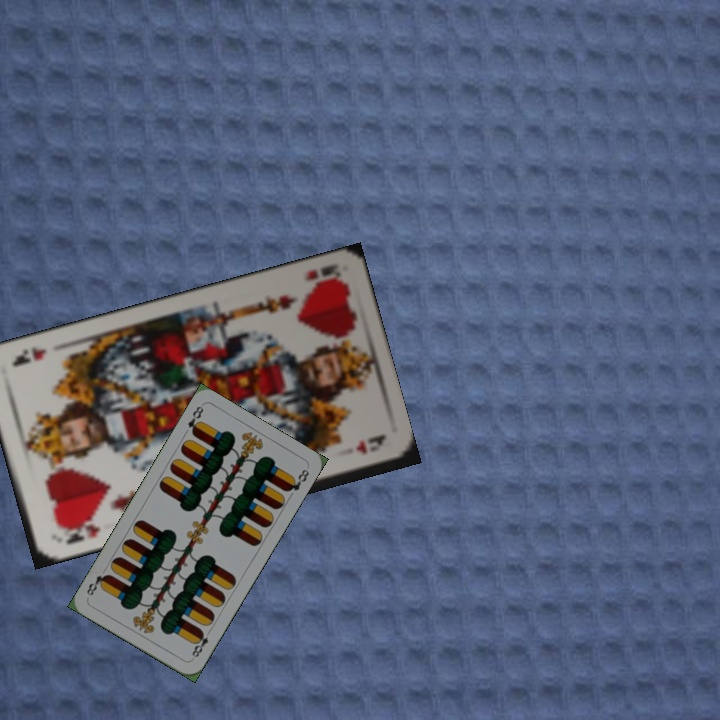E8: (187, 626, 214, 662), (184, 402, 206, 437)
HK: (54, 516, 103, 547), (301, 259, 343, 291)
